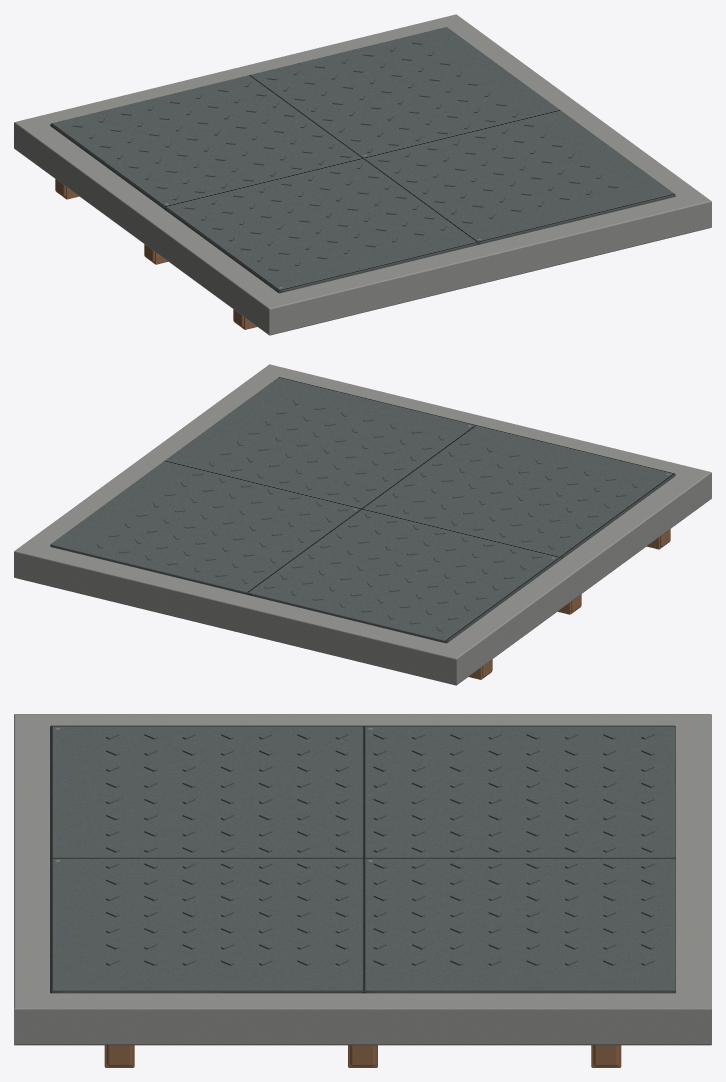
Rendered from fps-survival-forest-outpost-floor-slab-f61a944d__32612.glb.
3 views of the same model, one above another, from view 1: azimuth 30°, elevation 25°; view 2: azimuth 150°, elevation 25°; view 3: azimuth 270°, elevation 25° (orthographic). The views are drawn at different scales.
Parts seen in each view (by area): view 1: floor-slab; view 2: floor-slab; view 3: floor-slab.
Boxes of the visible parts, box(x1,y1,x2,y2) form: floor-slab: box(14, 14, 711, 335); floor-slab: box(14, 364, 711, 685); floor-slab: box(14, 714, 711, 1067).
Size of the model in its own units: 4.02 by 0.4473 by 4.02.
4 materials, 2 textured.
